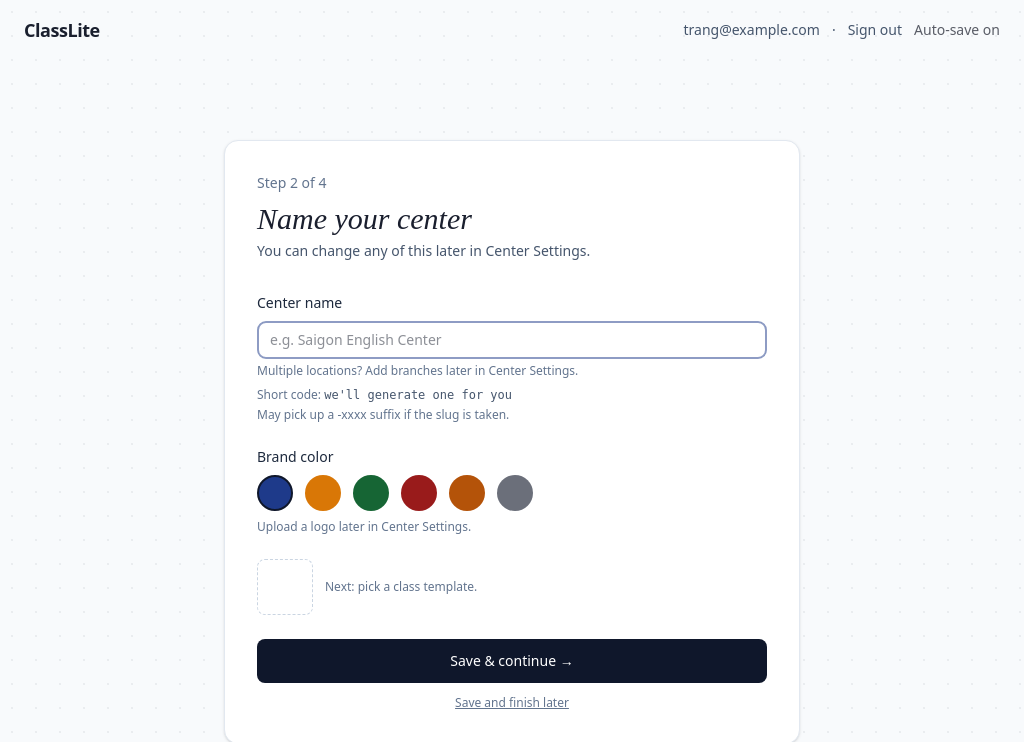
Test case: CenterSetupPage — AC7 POST /api/centers error branches › 500 INTERNAL_ERROR renders generic alert with requestId visible
The width and height of the screenshot is (1024, 742).
Type "X" into the field labelled "Center name".
click(512, 340); type("X")  # box [257,321,767,359]
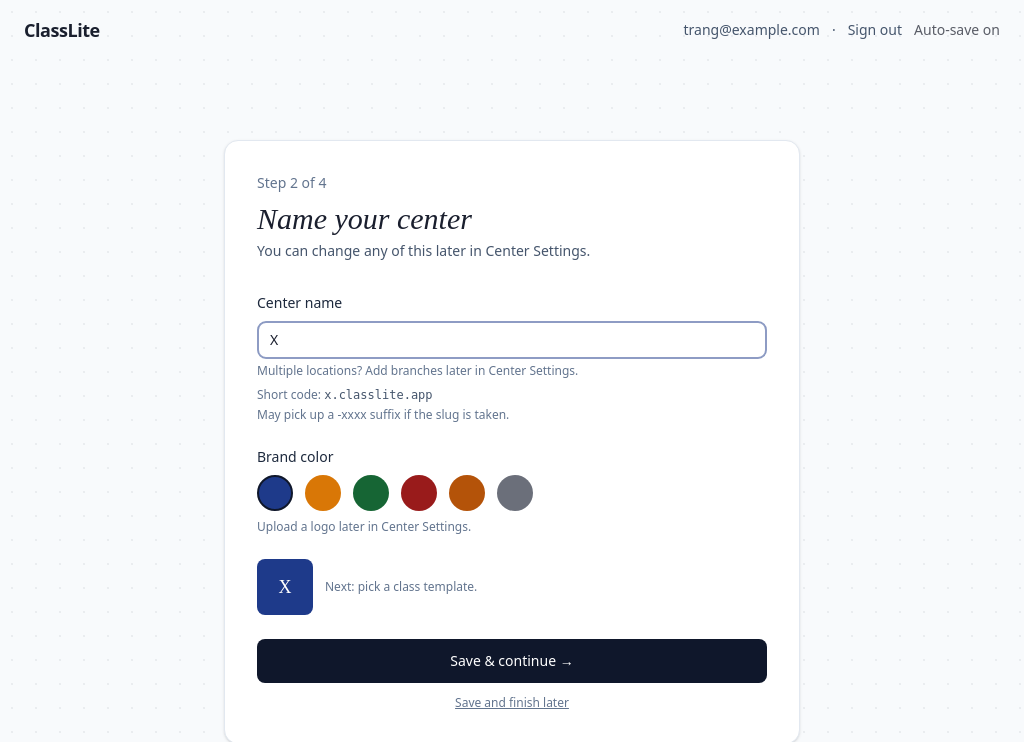
Click the button "Save & continue →".
click(512, 661)  # box [257,639,767,683]
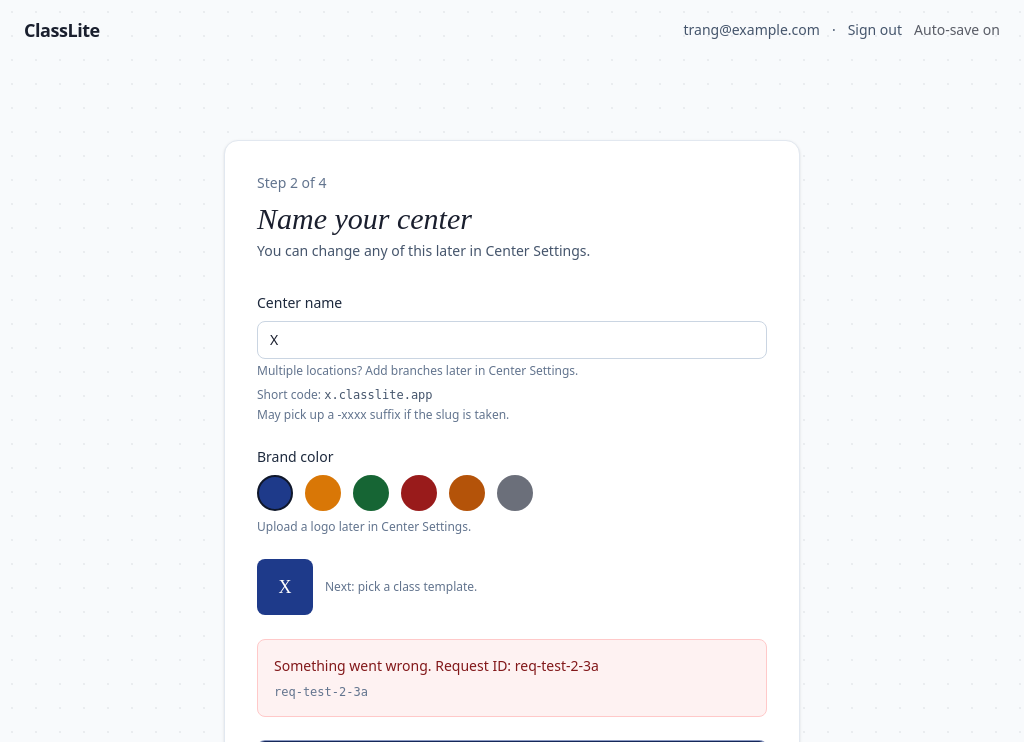
Expected: the message shows "req-test-2-3a", [274,685,368,699]
